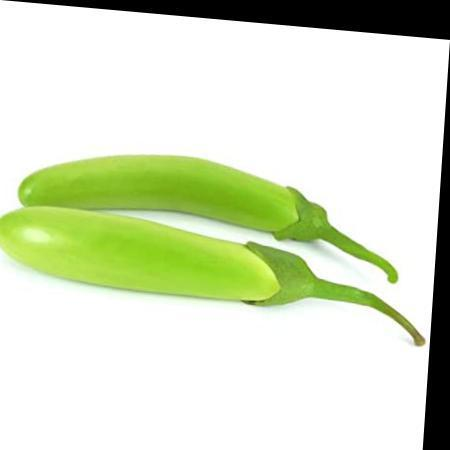eggplant: (0, 125, 408, 381)
